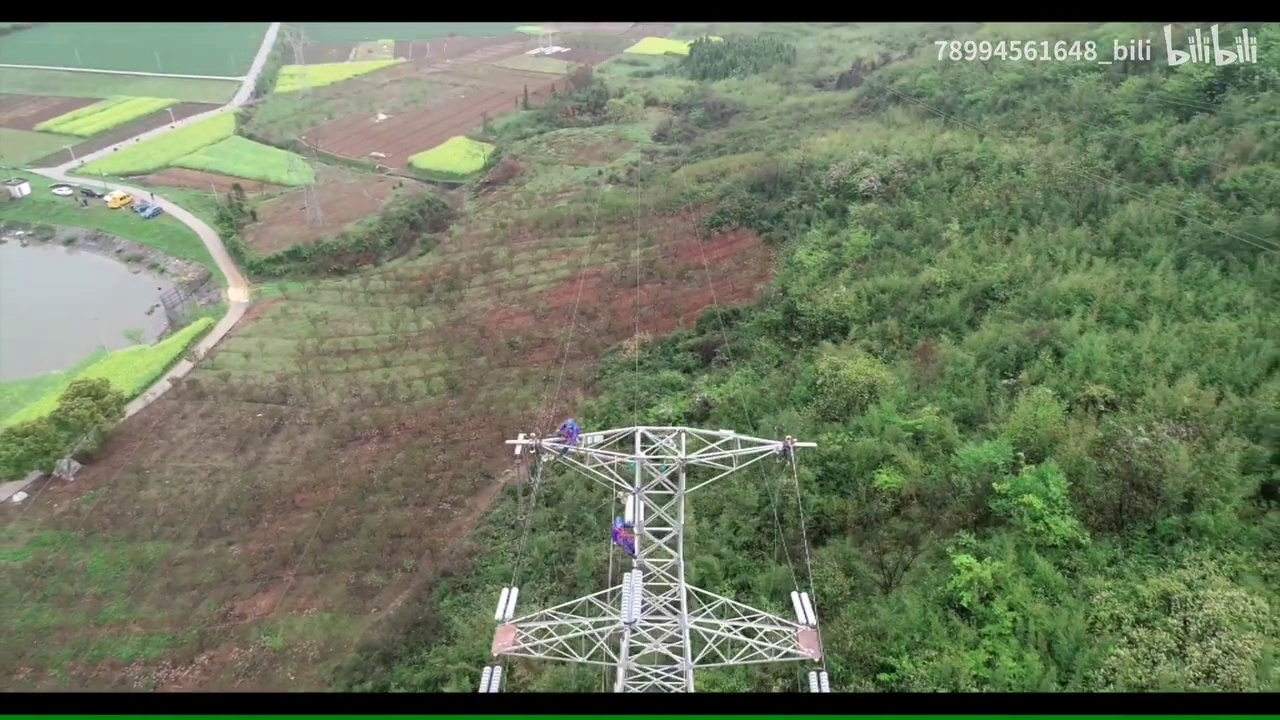tower_head: (503, 414, 808, 491)
